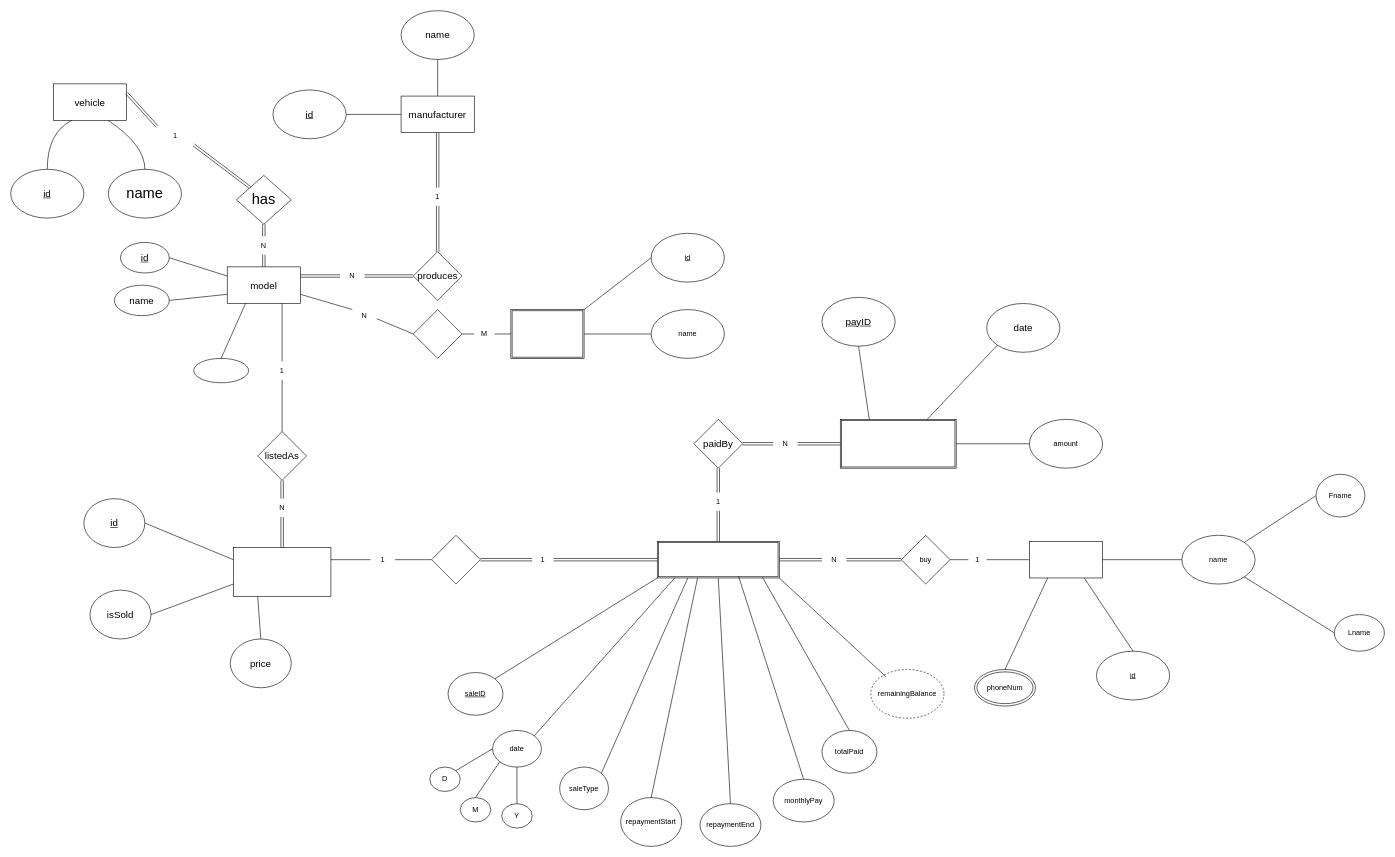
Some shapes in this 1395 by 857 pixel diagram are drawn without their labels. The box of each missing label's shape, as (x1, y1, x2, y2) in pixels:
carForSale: (233, 547, 331, 596)
customer: (1029, 541, 1103, 578)
customerPayment: (840, 419, 956, 468)
feature: (510, 309, 584, 358)
includes: (413, 309, 462, 358)
prod date: (193, 358, 249, 383)
soldAs: (431, 535, 480, 584)
soldCar: (657, 541, 779, 578)
